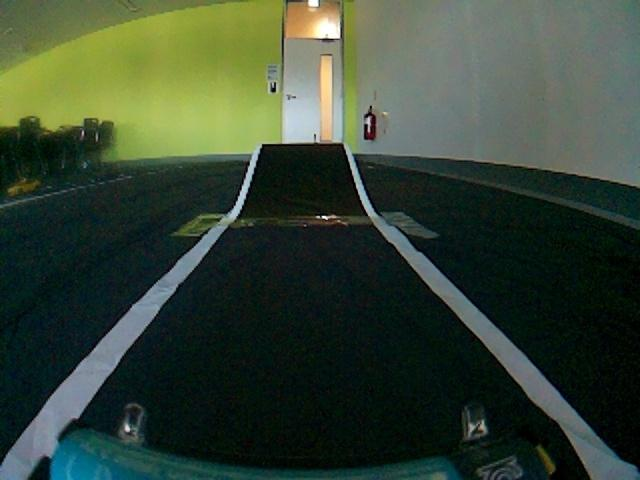go: (29, 228, 627, 480)
hill_up: (219, 142, 376, 221)
